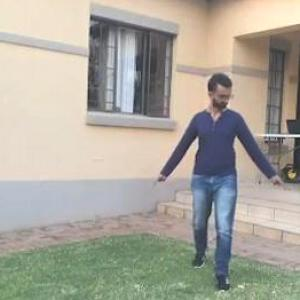land: (154, 77, 288, 294)
